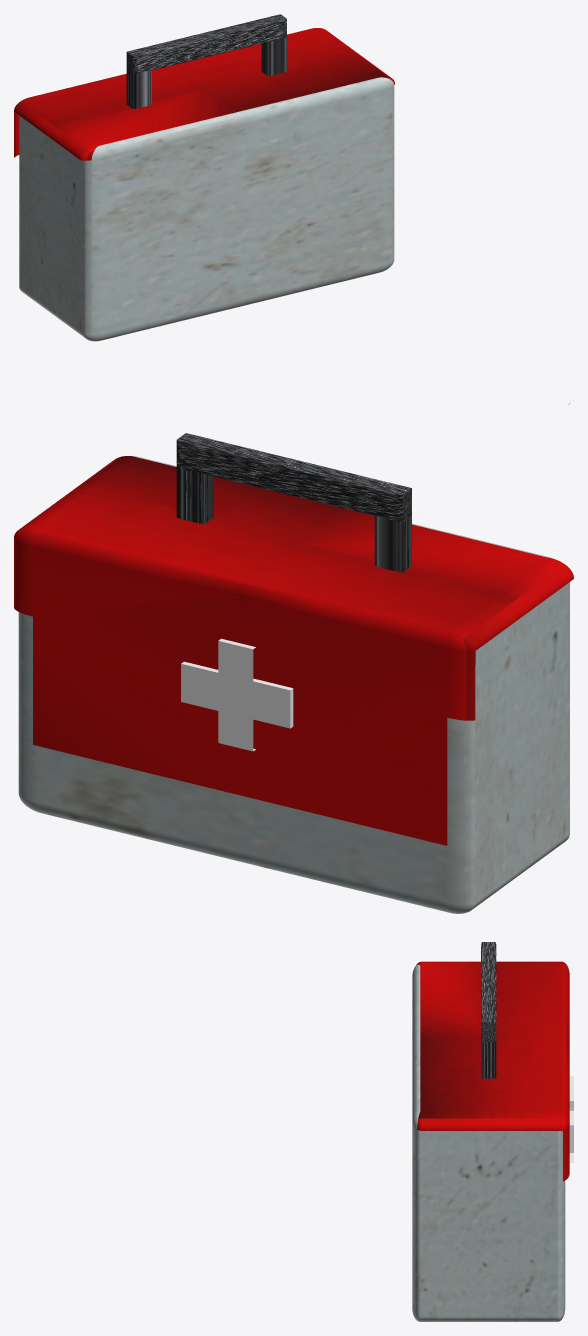
The model's file is medPack.fbx.
3 views of the same model, one above another, from view 1: azimuth 30°, elevation 25°; view 2: azimuth 150°, elevation 25°; view 3: azimuth 270°, elevation 25° (orthographic). The views are drawn at different scales.
Visible parts, largest first — view 1: Box, BoxLid, Handle; view 2: BoxLid, Box, Handle, Cross; view 3: Box, BoxLid, Handle.
Boxes of the visible parts, x1,y1,x2,y2 form: Box: (19, 77, 394, 341); BoxLid: (14, 28, 568, 404); Handle: (126, 14, 286, 108); BoxLid: (14, 456, 573, 845); Box: (18, 456, 569, 913); Handle: (176, 433, 411, 572); Cross: (181, 638, 293, 751); Box: (412, 964, 565, 1321); BoxLid: (416, 961, 569, 1181); Handle: (481, 942, 496, 1078).
Size of the model in its own units: 507 by 382 by 732.
